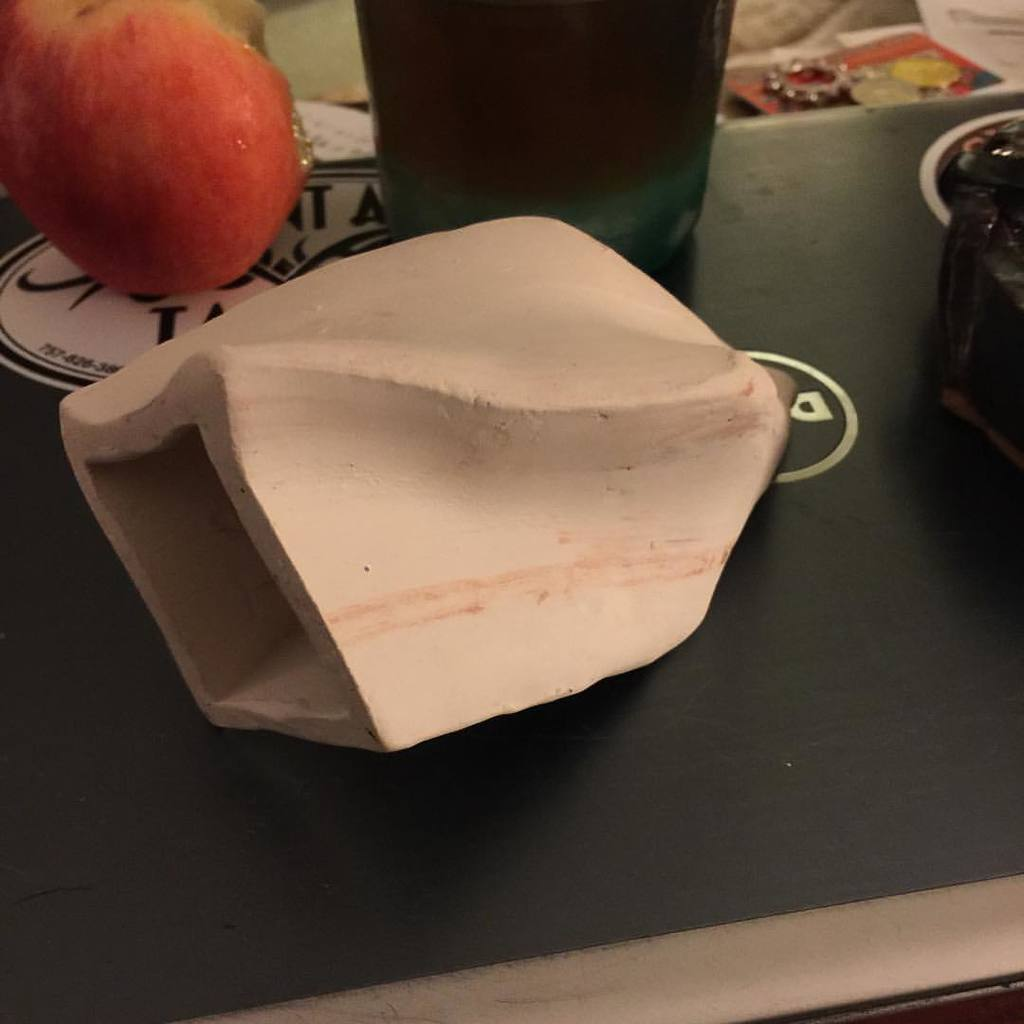Apple: (0, 3, 303, 272)
